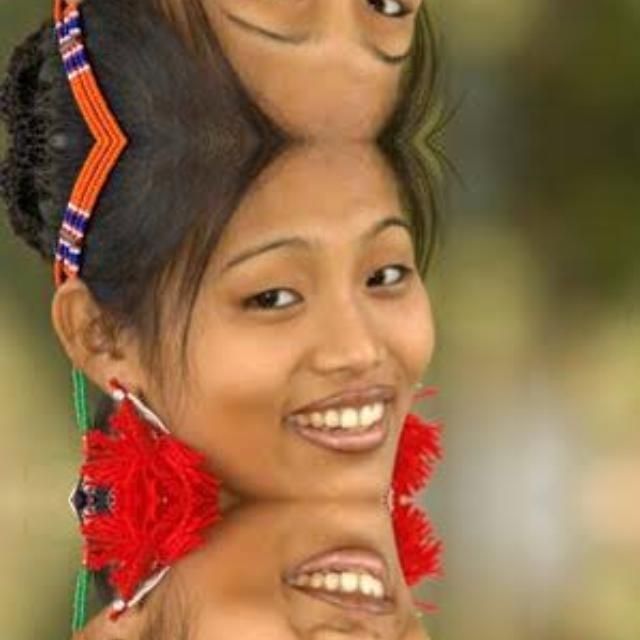person: (5, 140, 443, 500), (5, 499, 443, 640), (5, 0, 443, 140)
